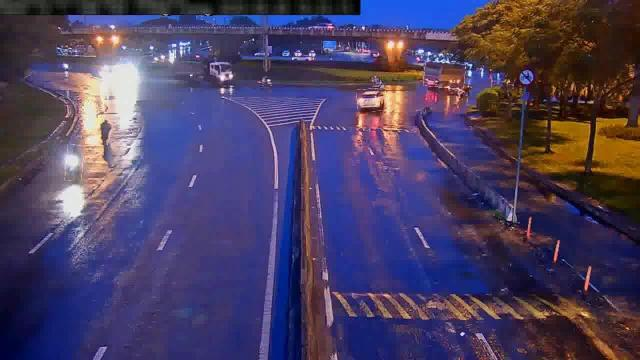Bike: (65, 145, 83, 181), (96, 119, 112, 145)
Car: (357, 88, 387, 112)
Truck: (424, 62, 464, 88)
